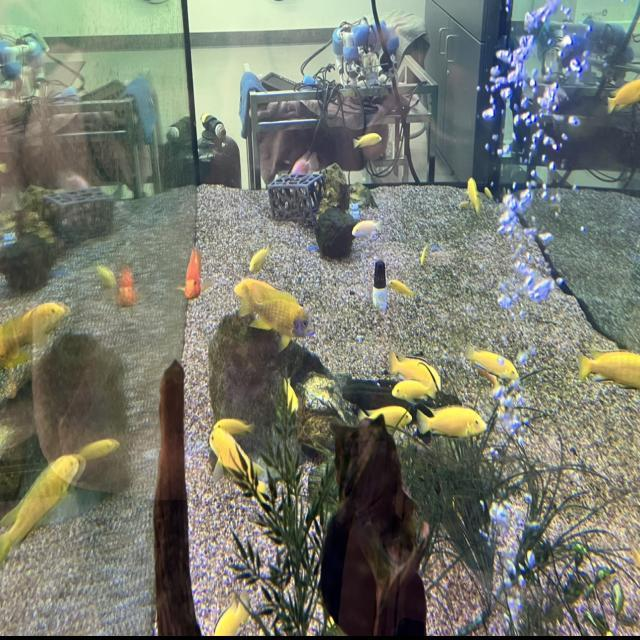YellowCichlid: (3, 456, 82, 572), (574, 338, 640, 402), (232, 282, 306, 329), (422, 409, 500, 446), (196, 438, 260, 480), (470, 342, 522, 392), (21, 306, 71, 344), (360, 406, 420, 436), (602, 74, 640, 120), (386, 344, 441, 374), (347, 124, 388, 158), (210, 594, 240, 636), (384, 379, 434, 402), (245, 240, 280, 272), (463, 174, 485, 216), (80, 438, 121, 458), (278, 376, 302, 410), (0, 318, 12, 383), (410, 241, 435, 271), (388, 272, 412, 302), (96, 261, 115, 298), (212, 416, 250, 432), (487, 183, 496, 209)
